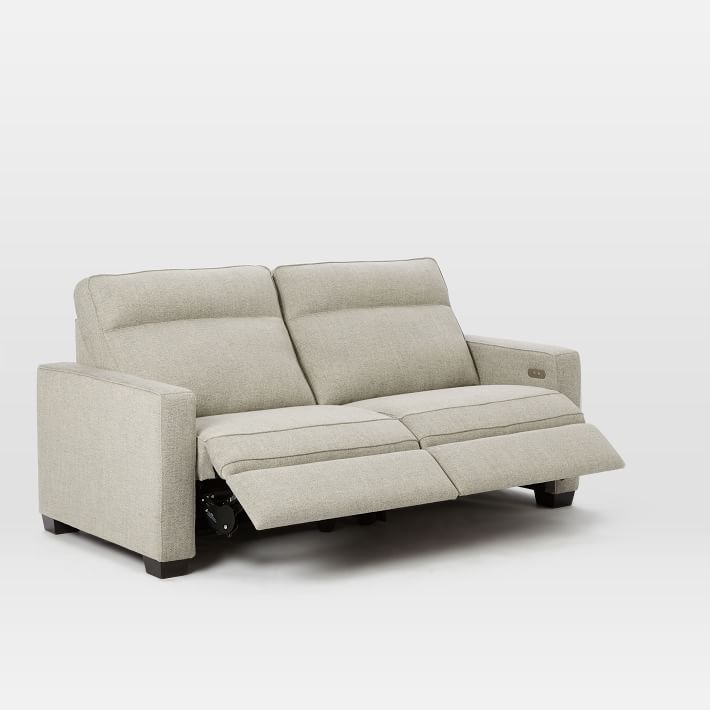chairs: (34, 255, 633, 582)
